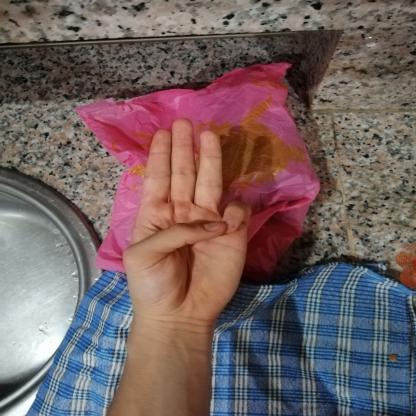THA: (108, 109, 262, 337)
